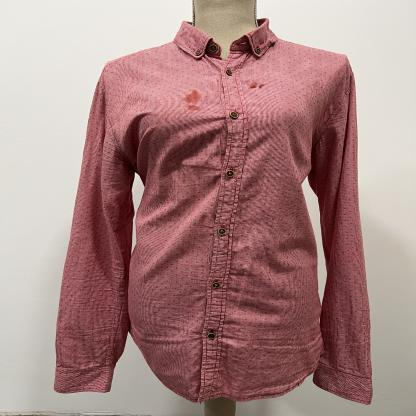stain: (179, 87, 206, 104), (183, 104, 204, 112), (247, 80, 259, 91), (257, 81, 270, 90)
